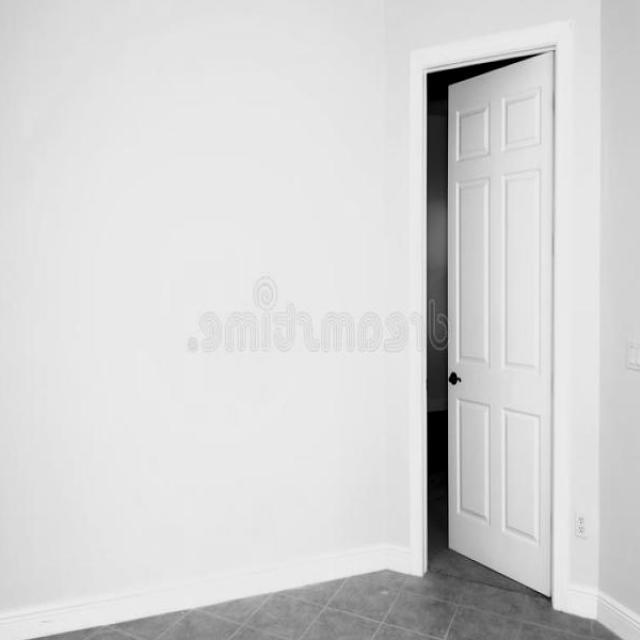door: (444, 49, 554, 597)
